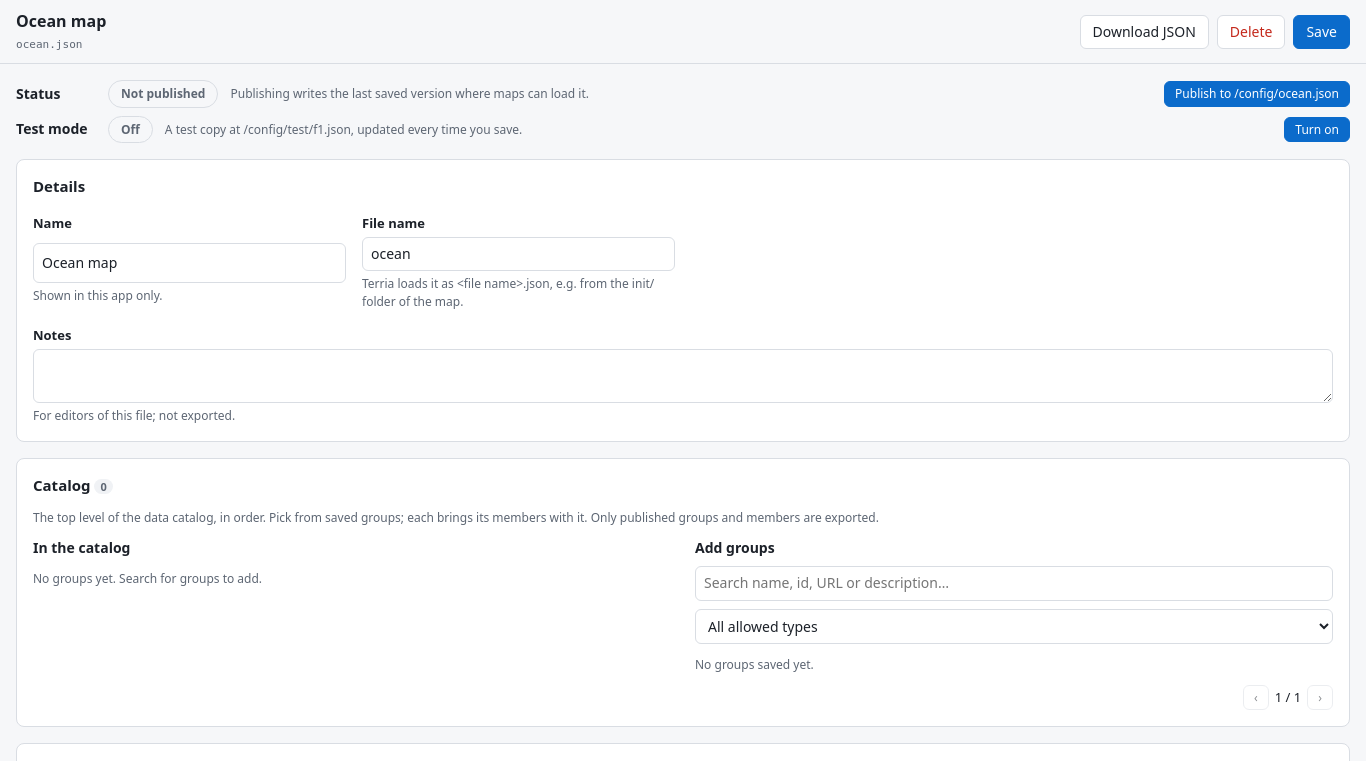
Test: InitFileEditor: existing file › shows a save conflict
Expected: the heading "Ocean map" is shown, top-left (16, 10), bottom-right (106, 33)
Type "!" into the field labelled "Name Shown in this app only.". click: coordinates (190, 263)
box: top-left (33, 243), bottom-right (346, 283)
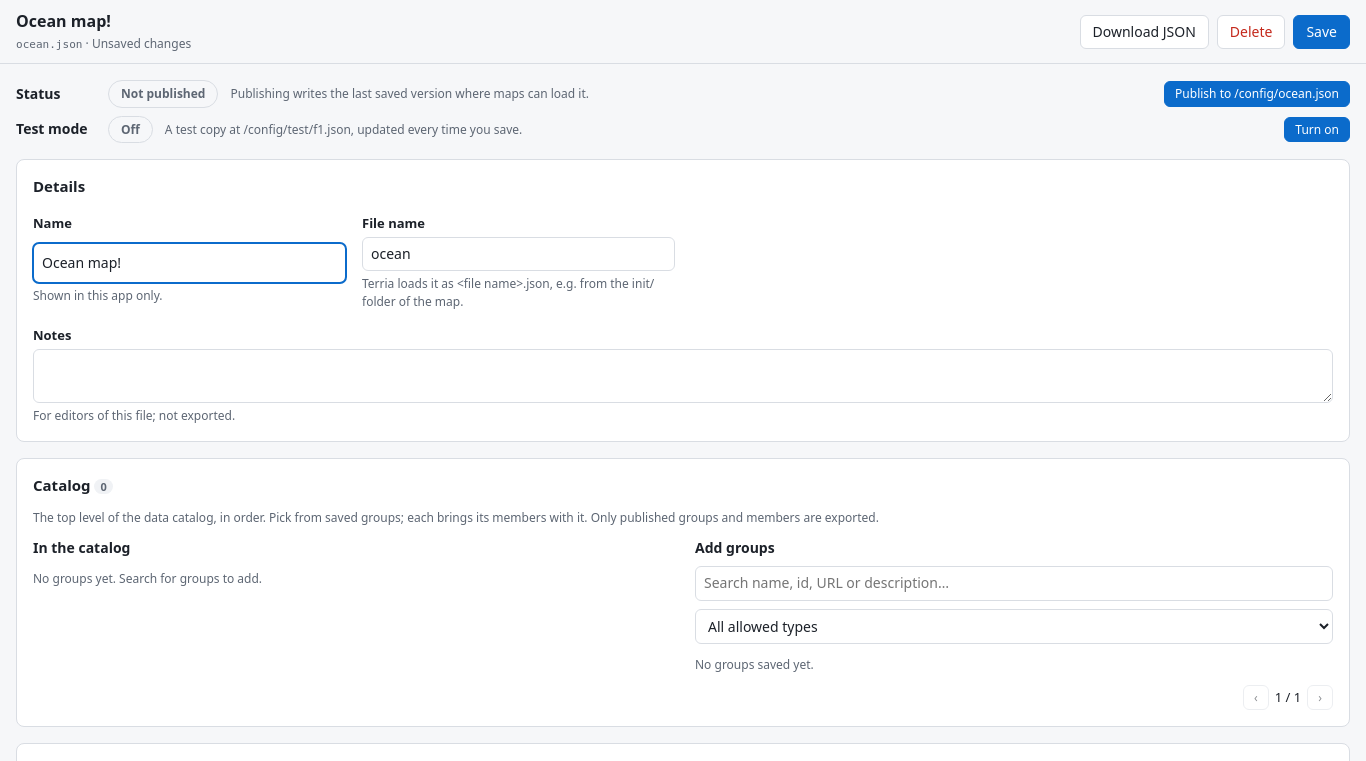
Click the button "Save". click: coordinates (1322, 32)
box: top-left (1293, 15), bottom-right (1350, 49)
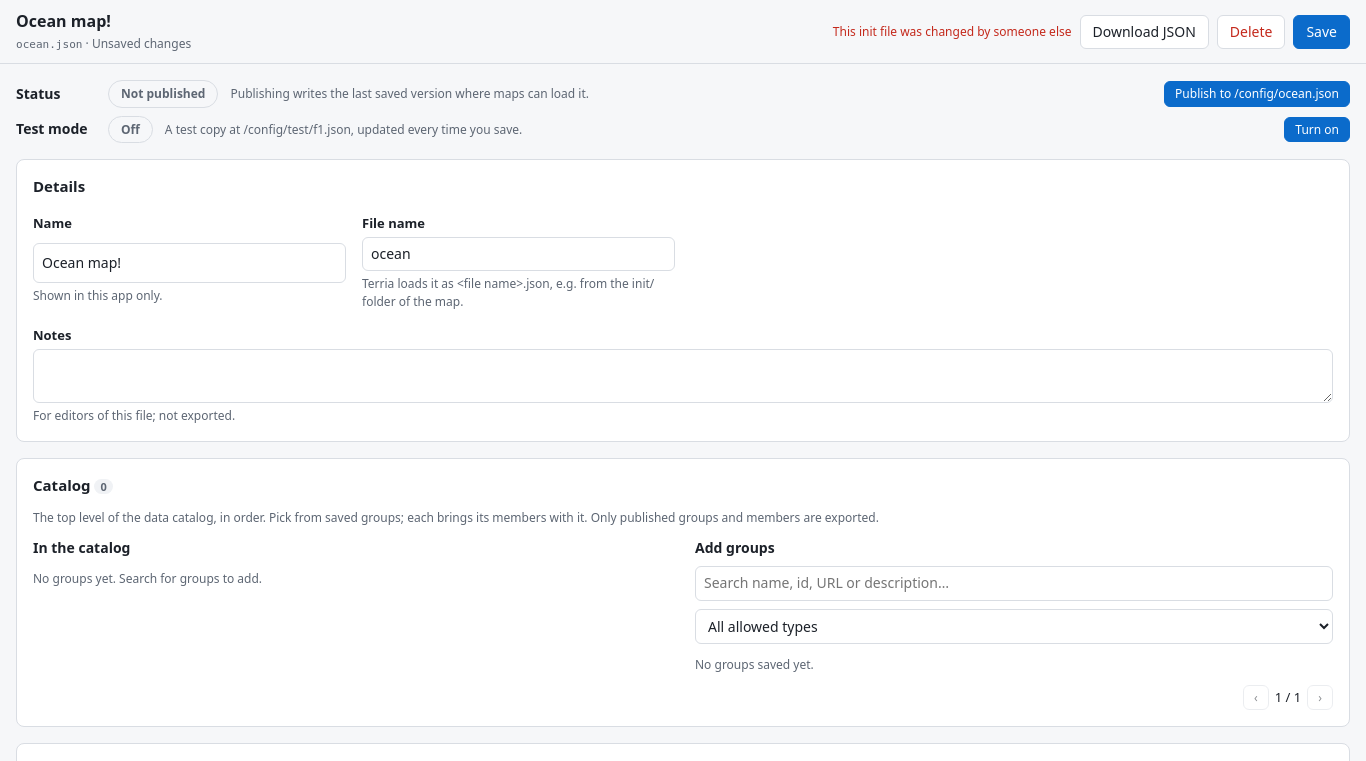
Expected: the text "This init file was changed by someone else" is shown, top-left (833, 23), bottom-right (1072, 40)
